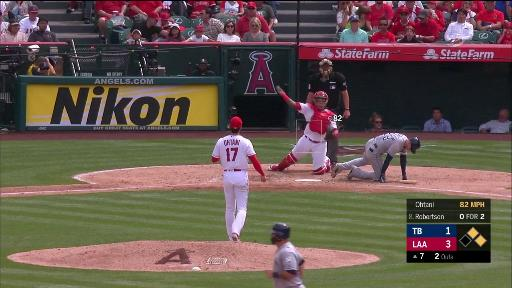pitcher: (210, 117, 267, 241)
